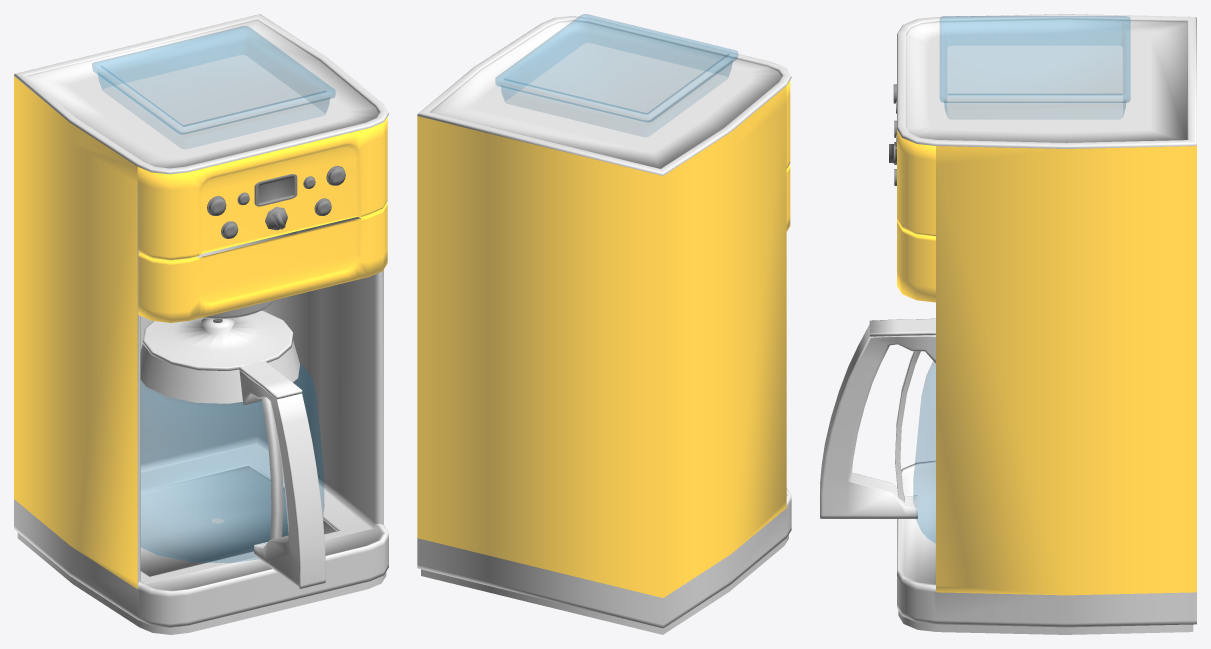
3 views of the same model, side by side, from view 1: azimuth 30°, elevation 25°; view 2: azimuth 150°, elevation 25°; view 3: azimuth 270°, elevation 25° (orthographic). The views are drawn at different scales.
Visible parts, largest first — view 1: Cube; view 2: Cube; view 3: Cube.
Part boxes in pixels (bbox=[...]): Cube: bbox=[14, 14, 388, 634]; Cube: bbox=[417, 14, 791, 634]; Cube: bbox=[820, 14, 1196, 634].
Bounding box in the file's own units: 0.4041 × 0.7281 × 0.4845.
